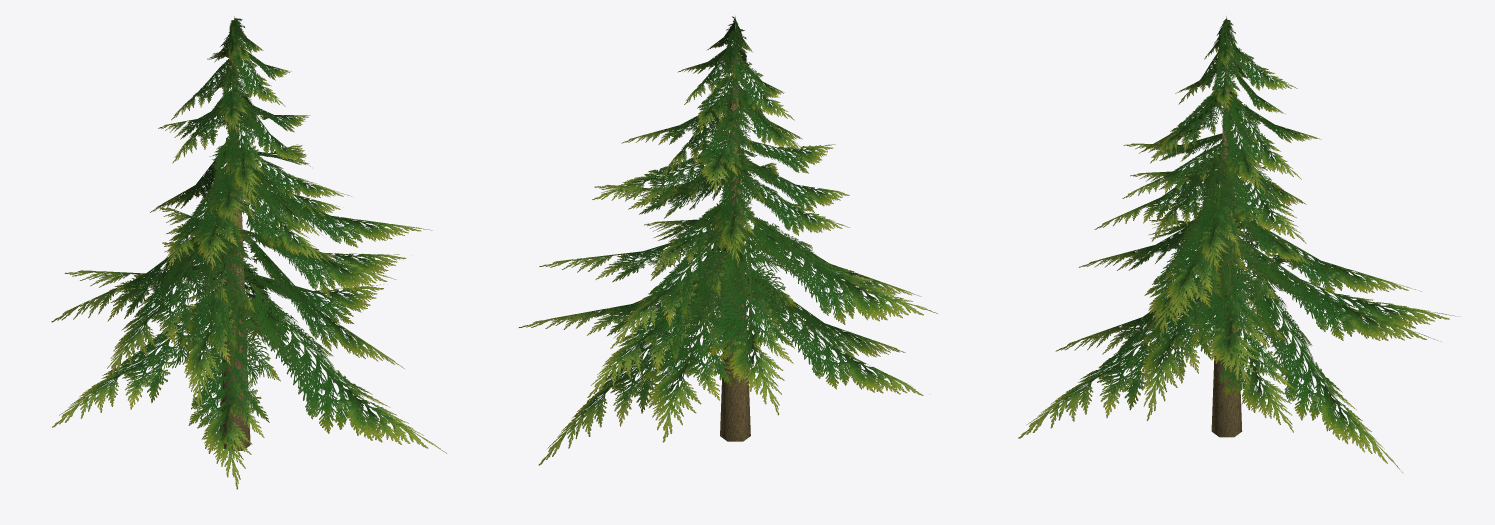
3 views of the same model, side by side, from view 1: azimuth 30°, elevation 25°; view 2: azimuth 150°, elevation 25°; view 3: azimuth 270°, elevation 25° (orthographic). The views are drawn at different scales.
Visible parts, largest first — view 1: Tree.001; view 2: Tree.001; view 3: Tree.001.
Boxes of the visible parts, box(x1,y1,x2,y2) form: Tree.001: box(51, 16, 446, 489); Tree.001: box(518, 16, 937, 465); Tree.001: box(1018, 16, 1458, 473).
Bounding box in the file's own units: 3.65 × 3.85 × 3.96.
1 material, 1 textured.
